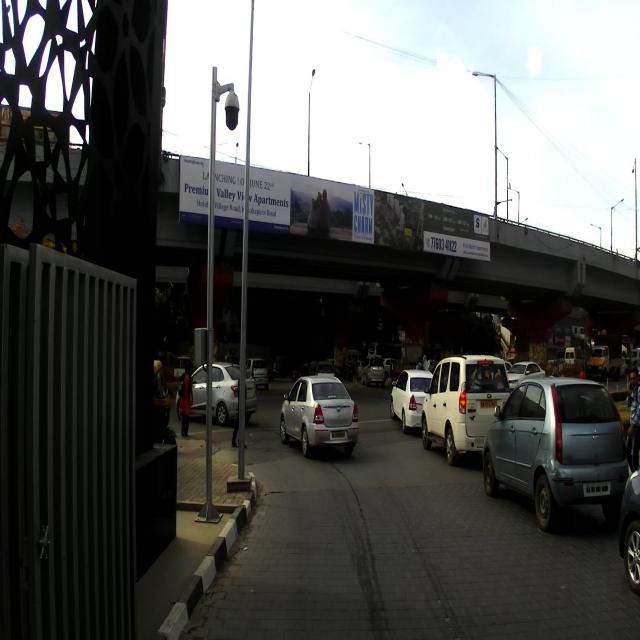Car_Hyundai: (174, 362, 259, 427)
Car_Mahindra: (422, 357, 509, 465)
Car_TATA: (479, 377, 619, 531)
Car_Toyota: (280, 371, 357, 463)
